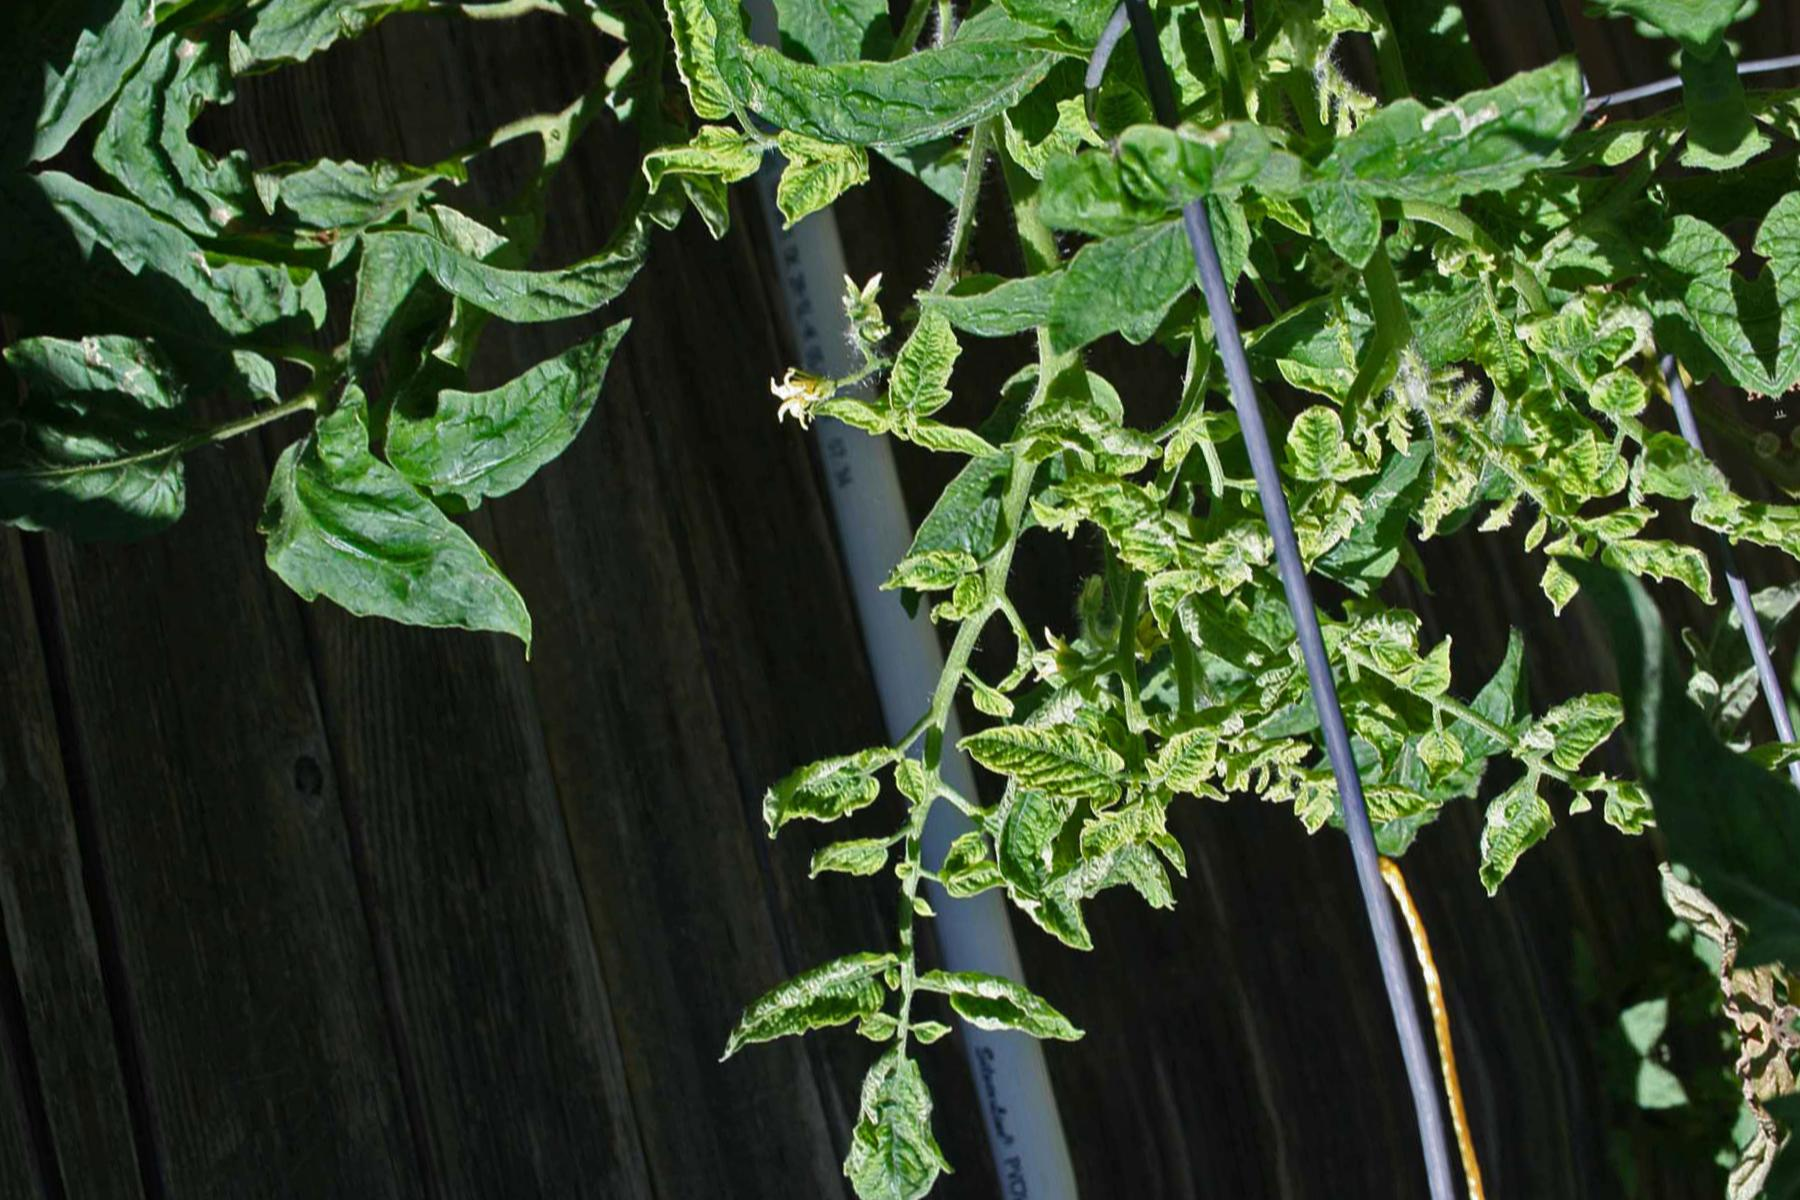Tomato leaf yellow virus: (1278, 37, 1635, 267), (1010, 183, 1268, 372), (676, 923, 927, 1078), (1055, 447, 1244, 647), (714, 717, 928, 854), (958, 686, 1152, 829), (845, 293, 1000, 450), (826, 1042, 970, 1200), (1590, 505, 1730, 647), (1450, 769, 1571, 907), (1507, 280, 1657, 390), (852, 532, 996, 635), (1125, 703, 1251, 814), (1057, 781, 1188, 881), (1271, 386, 1378, 498), (1525, 423, 1642, 521), (1528, 676, 1641, 774), (785, 821, 908, 903), (1570, 352, 1658, 427)
